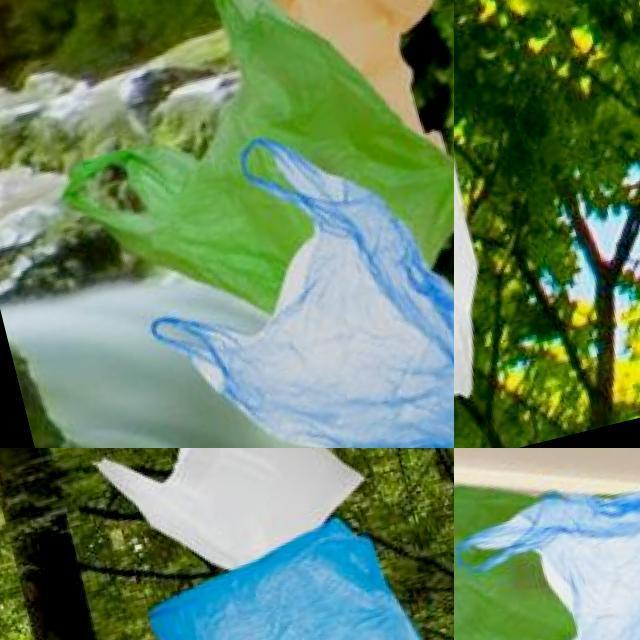waste: (55, 0, 454, 358), (123, 105, 454, 448), (131, 501, 454, 640), (73, 448, 386, 591), (454, 448, 640, 640), (471, 449, 640, 640), (454, 30, 511, 448)
